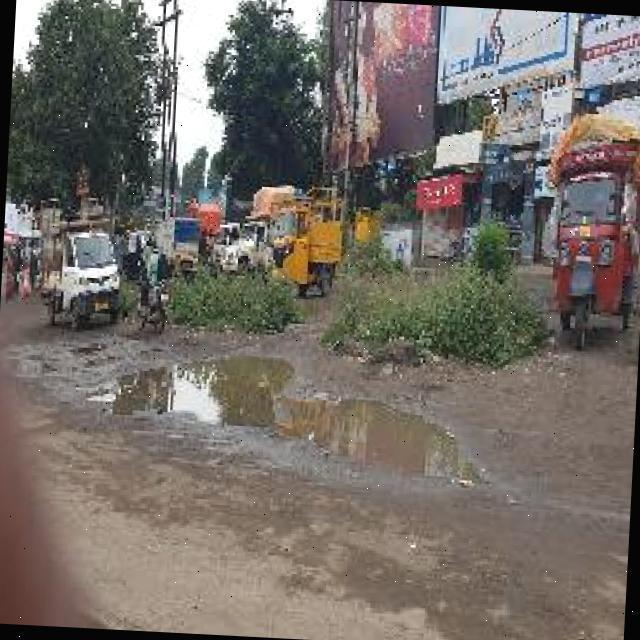waterlogging: (81, 368, 500, 528)
